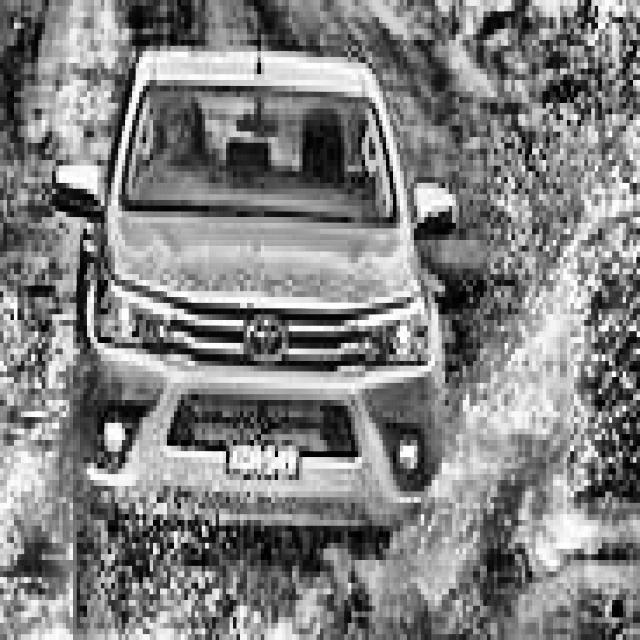light_vehicle: (17, 0, 466, 640)
